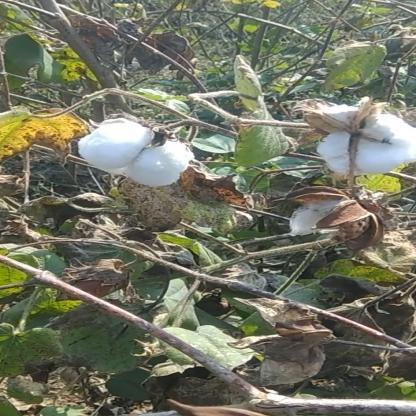cotton_ready: (51, 101, 200, 194), (292, 90, 415, 177)
